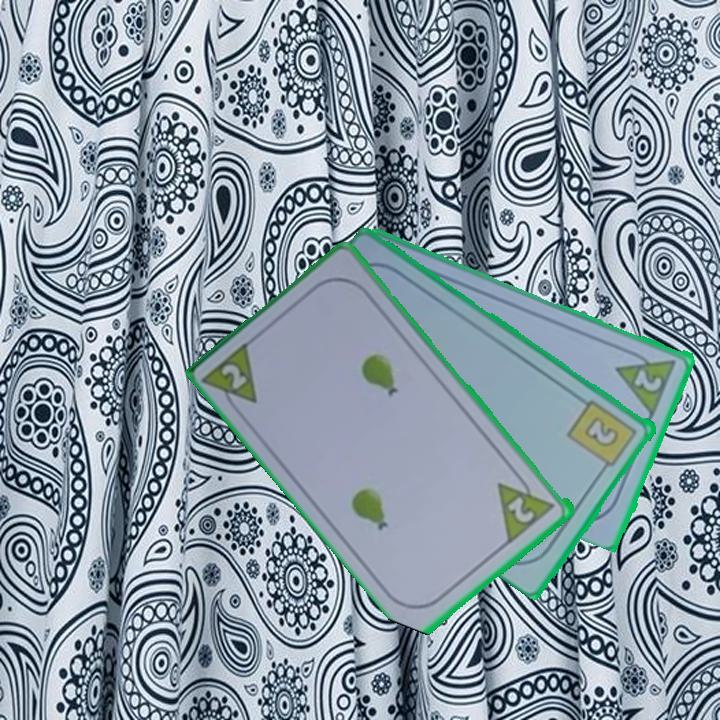2b: (564, 396, 641, 476)
2p: (200, 337, 262, 420), (494, 467, 559, 545), (631, 365, 666, 395)
